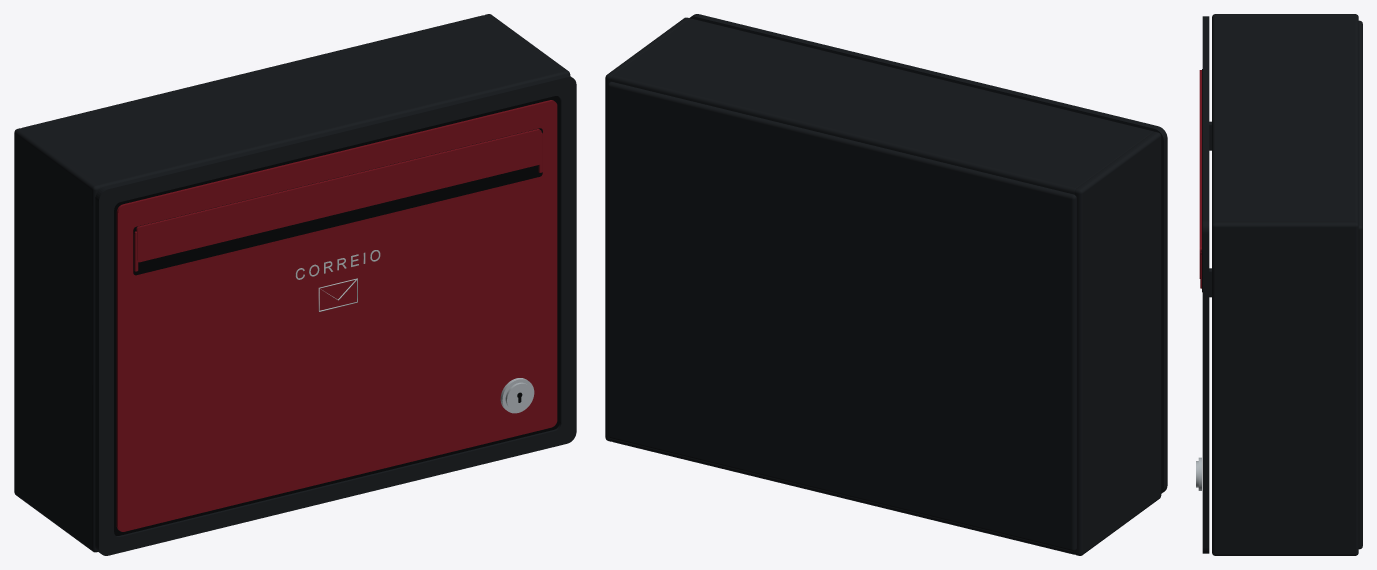
The model's file is caixa_correio.glb.
The picture shows the model from 3 angles, left to right: view 1: azimuth 30°, elevation 25°; view 2: azimuth 150°, elevation 25°; view 3: azimuth 270°, elevation 25°; orthographic projection. The views are drawn at different scales.
Visible parts, largest first — view 1: Porta frontal bordo, Chapa superior inferior.001, Lateral da caixa, Moldura frontal preta, Aba basculante das cartas, Entrada de cartas preta, Junta perimetral da porta; view 2: Fundo de fixacao, Chapa superior inferior.001, Lateral da caixa, Moldura frontal preta, Lateral da caixa.001, Chapa superior inferior; view 3: Lateral da caixa.001, Chapa superior inferior.001, Moldura frontal preta, Fundo de fixacao, Aba basculante das cartas, Lateral da caixa, Entrada de cartas preta.
Part boxes in pixels (x1,y1,x2,y2): Porta frontal bordo: (116, 100, 557, 531); Chapa superior inferior.001: (21, 15, 563, 187); Lateral da caixa: (14, 128, 100, 552); Moldura frontal preta: (95, 74, 576, 555); Aba basculante das cartas: (136, 129, 541, 262); Entrada de cartas preta: (133, 128, 542, 275); Junta perimetral da porta: (114, 96, 559, 535); Fundo de fixacao: (608, 81, 1076, 551); Chapa superior inferior.001: (611, 18, 1153, 194); Lateral da caixa: (1074, 131, 1161, 555); Moldura frontal preta: (690, 14, 1167, 493); Lateral da caixa.001: (605, 17, 690, 441); Chapa superior inferior: (611, 439, 1074, 554); Lateral da caixa.001: (1212, 221, 1358, 555); Chapa superior inferior.001: (1212, 16, 1358, 223); Moldura frontal preta: (1202, 16, 1209, 553); Fundo de fixacao: (1358, 20, 1362, 549); Aba basculante das cartas: (1199, 70, 1201, 278); Lateral da caixa: (1212, 14, 1358, 18); Entrada de cartas preta: (1202, 69, 1202, 292).
Bounding box in the file's own units: 0.3 × 0.22 × 0.1.
